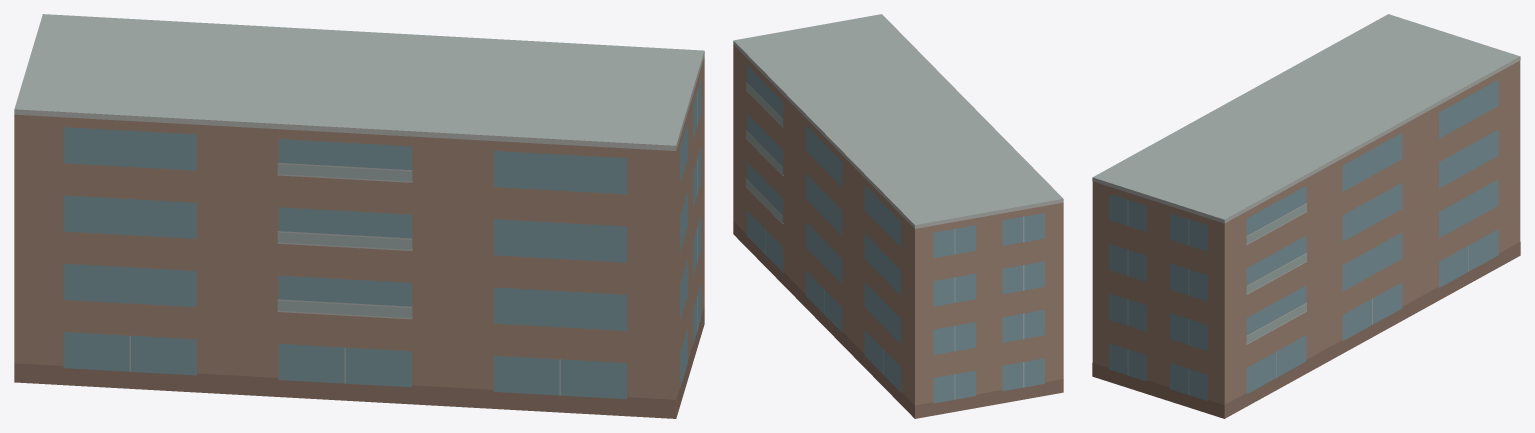
File: survey-upis-32848084.glb
3 renders of one model, left to right at view 1: azimuth 30°, elevation 25°; view 2: azimuth 150°, elevation 25°; view 3: azimuth 270°, elevation 25°, orthographic. The views are drawn at different scales.
Parts seen in each view (by area): view 1: survey-upis-32848084.tmp; view 2: survey-upis-32848084.tmp; view 3: survey-upis-32848084.tmp.
Boxes of the visible parts, left/top/right/bottom form: survey-upis-32848084.tmp: left=14, top=14, right=704, bottom=418; survey-upis-32848084.tmp: left=733, top=14, right=1063, bottom=418; survey-upis-32848084.tmp: left=1092, top=14, right=1520, bottom=418.
Bounding box in the file's own units: 27.69 × 12.5 × 24.35.
